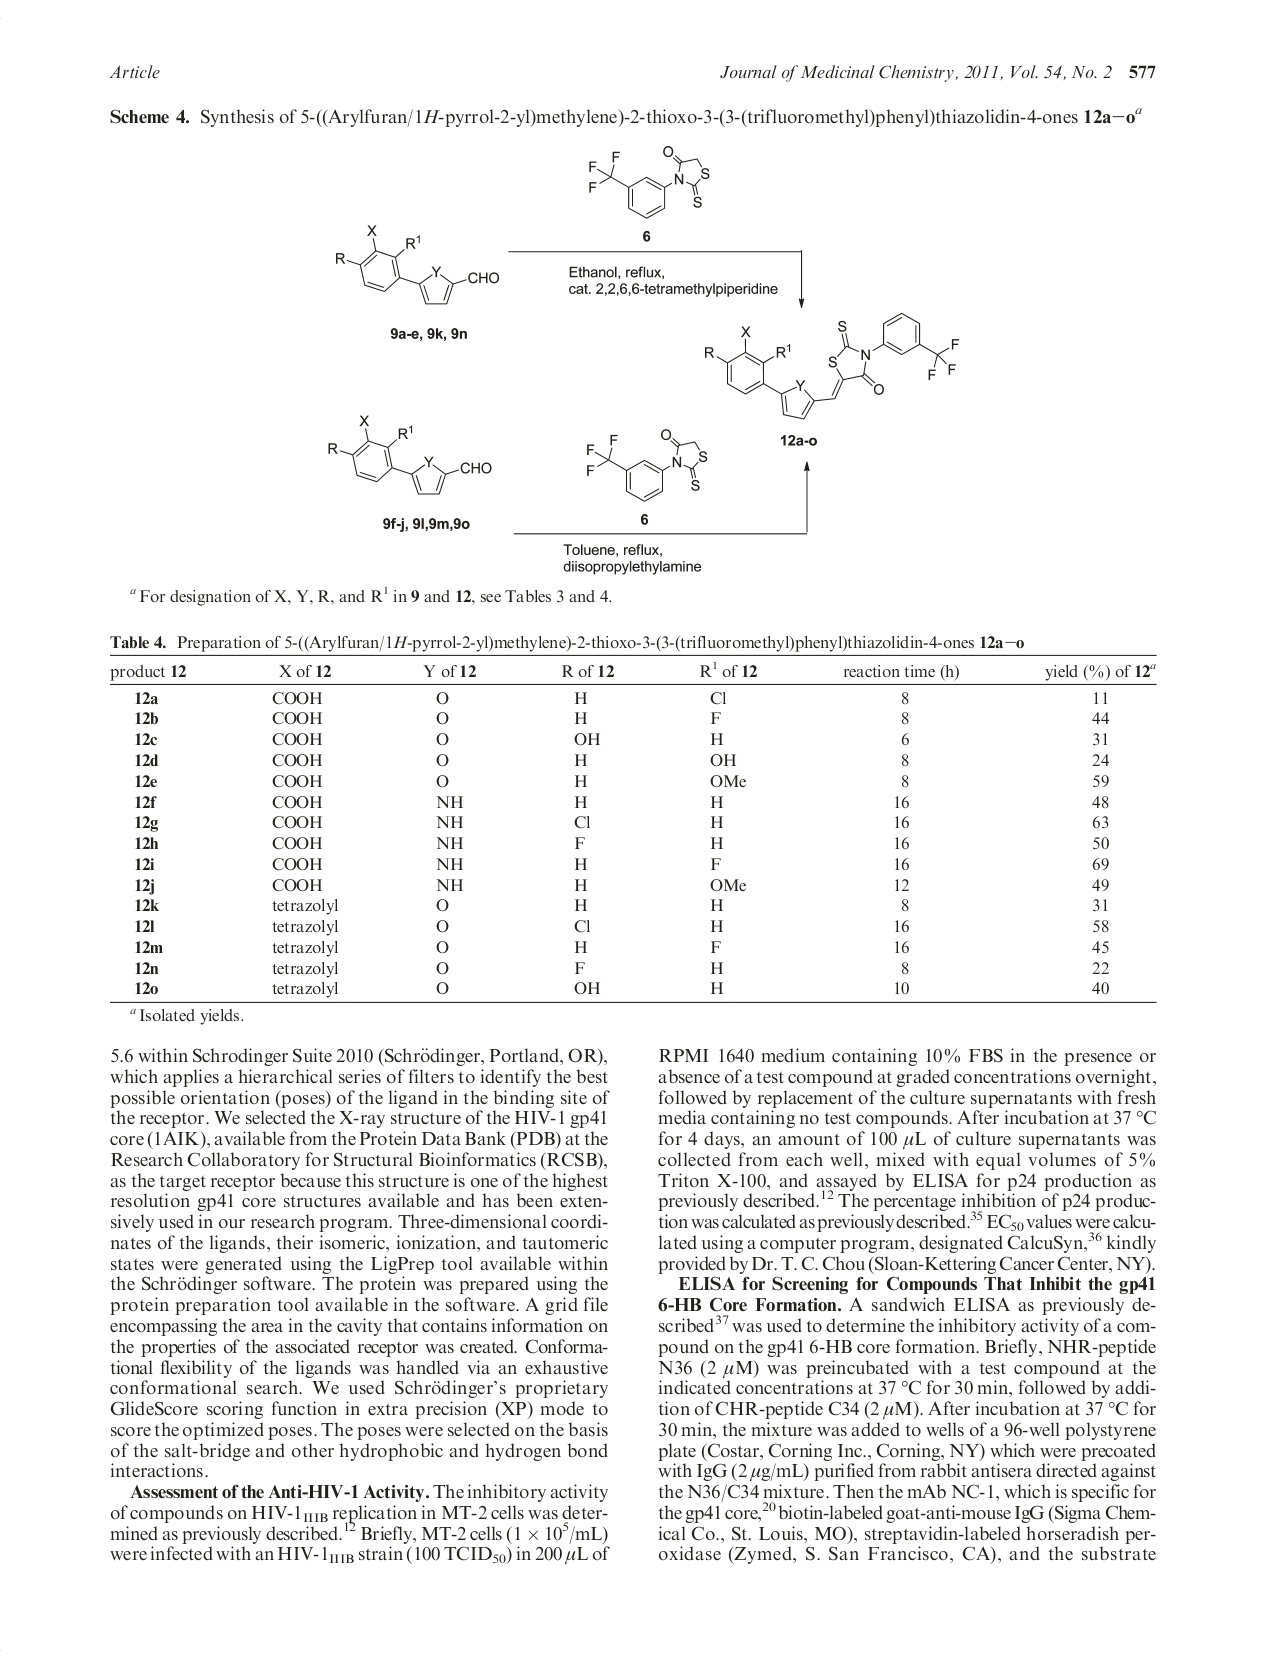exist_molecular: (701, 310, 964, 422), (324, 414, 493, 501), (334, 221, 501, 307), (584, 141, 715, 219), (581, 427, 710, 507)
